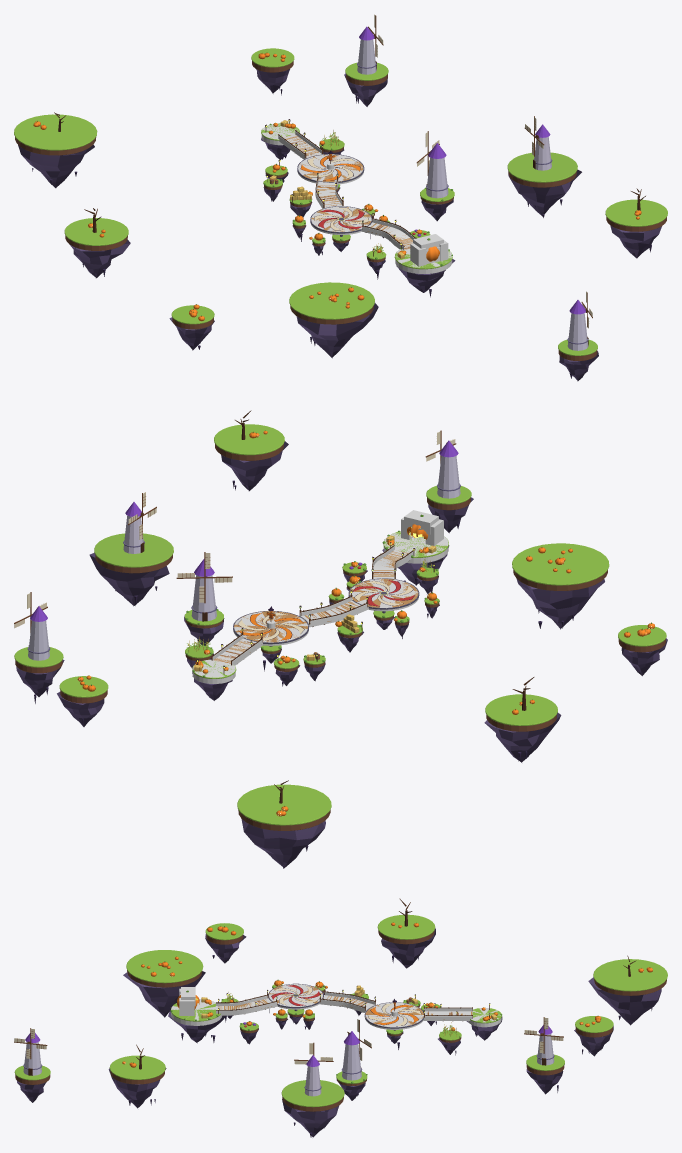
3 views of the same model, one above another, from view 1: azimuth 30°, elevation 25°; view 2: azimuth 150°, elevation 25°; view 3: azimuth 270°, elevation 25° (orthographic). The views are drawn at different scales.
Visible parts, largest first — view 1: V_grass, V_rock, V_dirt, C_0, V_stone_light, V_pumpkin, C_0.001, C_1, C_0.002, V_beam_dark, V_cloth_purple, V_plank; view 2: V_grass, V_rock, V_dirt, C_0, V_stone_light, V_pumpkin, V_beam_dark, C_1, C_0.002, C_0.001, V_plank.001, V_cloth_purple; view 3: V_grass, V_rock, C_0, V_dirt, V_stone_light, V_pumpkin, V_beam_dark, C_0.001, C_0.002, C_1, V_cloth_purple.
Part boxes in pixels (<box>): V_grass: <box>14,48,667,355</box>; V_rock: <box>18,69,661,381</box>; V_dirt: <box>15,61,666,360</box>; C_0: <box>261,124,452,273</box>; V_stone_light: <box>357,39,588,350</box>; V_pumpkin: <box>33,53,641,321</box>; C_0.001: <box>297,154,363,184</box>; C_1: <box>410,234,448,266</box>; C_0.002: <box>310,206,371,234</box>; V_beam_dark: <box>54,61,645,345</box>; V_cloth_purple: <box>359,26,585,314</box>; V_plank: <box>286,135,412,249</box>; V_grass: <box>14,424,666,825</box>; V_rock: <box>16,441,667,868</box>; V_dirt: <box>15,444,665,830</box>; C_0: <box>192,531,448,683</box>; V_stone_light: <box>28,455,460,660</box>; V_pumpkin: <box>77,431,654,816</box>; V_beam_dark: <box>28,410,534,803</box>; C_1: <box>401,510,443,545</box>; C_0.002: <box>350,579,418,611</box>; C_0.001: <box>233,611,308,645</box>; V_plank.001: <box>234,611,307,642</box>; V_cloth_purple: <box>30,440,458,621</box>; V_grass: <box>14,914,667,1107</box>; V_rock: <box>17,928,661,1137</box>; C_0: <box>171,992,501,1027</box>; V_dirt: <box>15,930,666,1111</box>; V_stone_light: <box>23,1033,554,1096</box>; V_pumpkin: <box>122,922,652,1067</box>; V_beam_dark: <box>28,898,636,1075</box>; C_0.001: <box>364,1002,423,1029</box>; C_0.002: <box>269,984,322,1009</box>; C_1: <box>179,987,195,1015</box>; V_cloth_purple: <box>25,1022,552,1066</box>.
Size of the model in its own units: 110 by 32.94 by 153.
